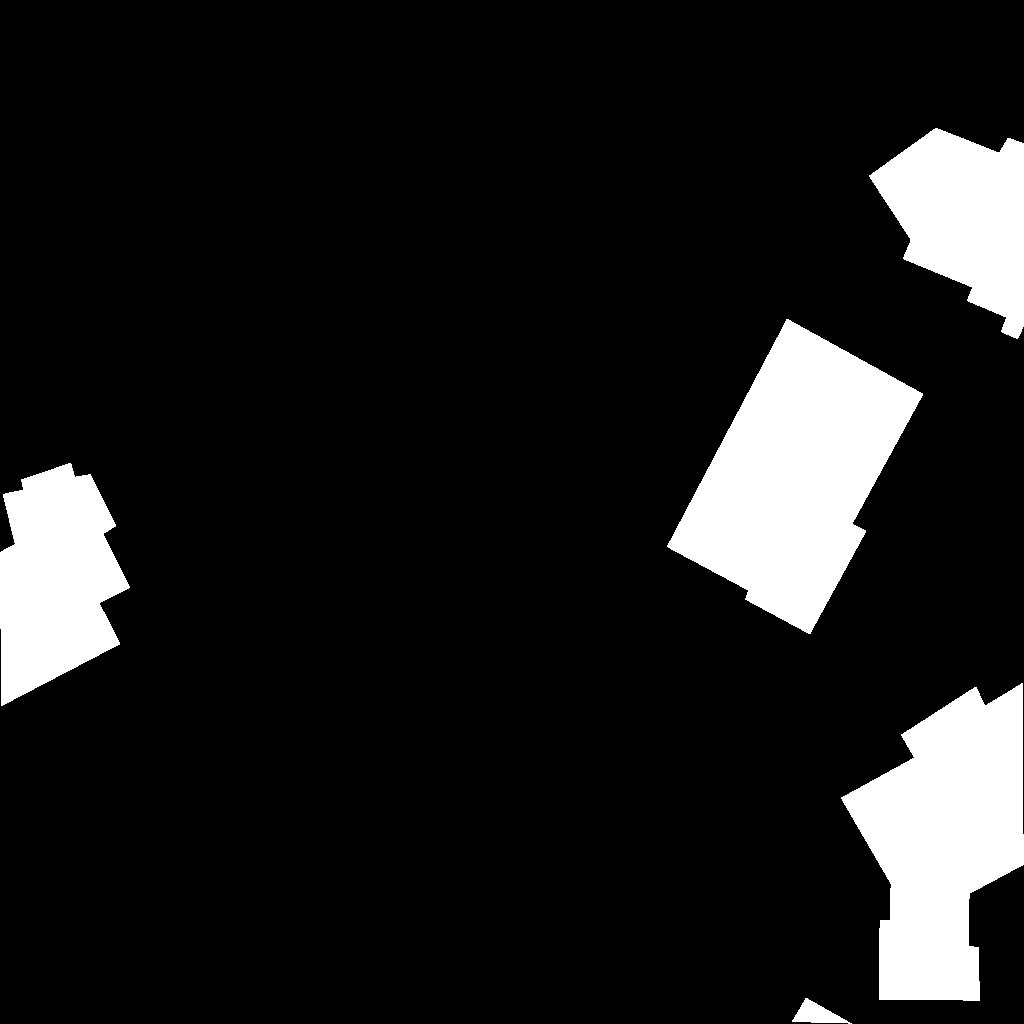building: (667, 319, 924, 635), (841, 683, 1024, 1001), (869, 128, 1024, 340), (0, 463, 131, 707), (792, 998, 853, 1024)
